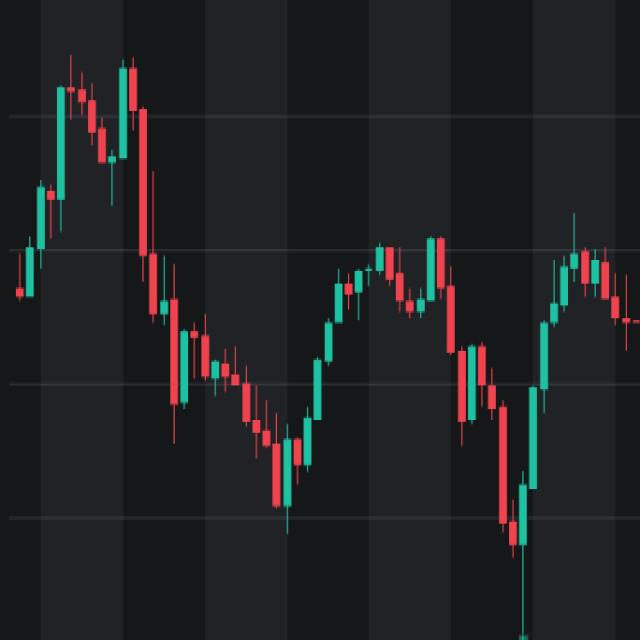Double-Top: (41, 38, 169, 271)
Resistance-Emerging: (280, 238, 640, 555)
